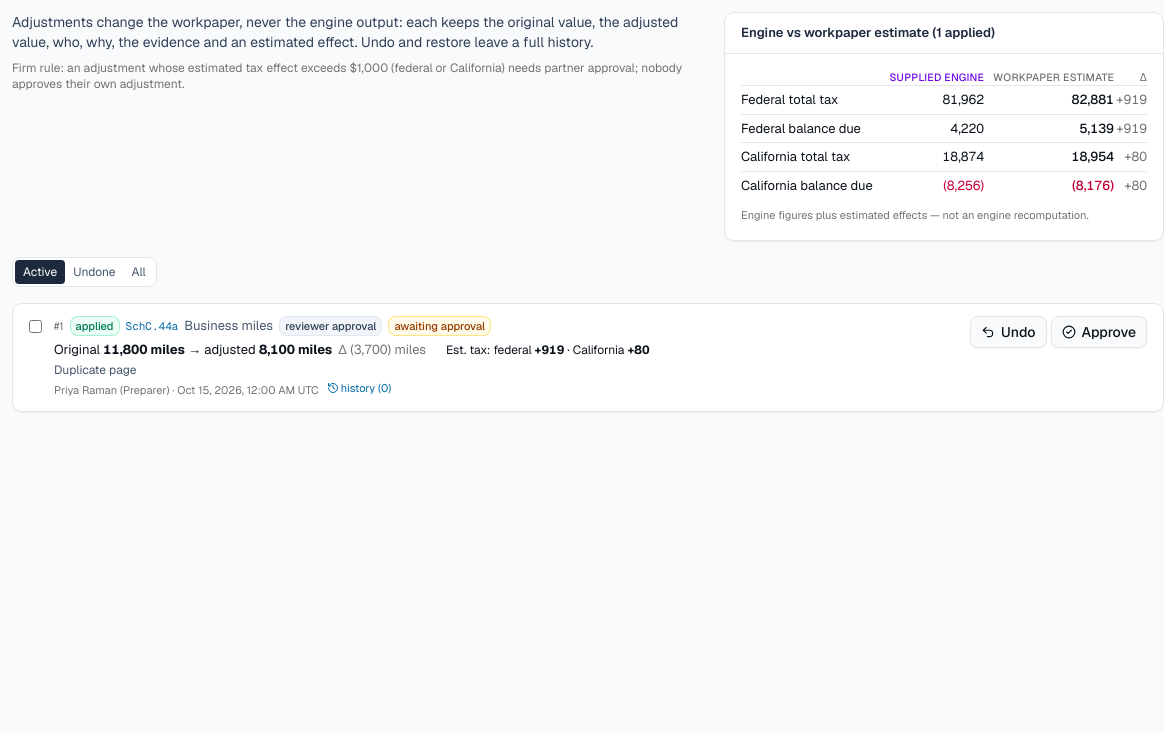
Test: adjustments UI › reports which adjustment blocked an all-or-nothing bulk action
The image size is (1164, 732).
What coordinates should you click on to do the following:
click the button "All"
I would click on:
 (139, 272)
Its box is [124,260,154,284].
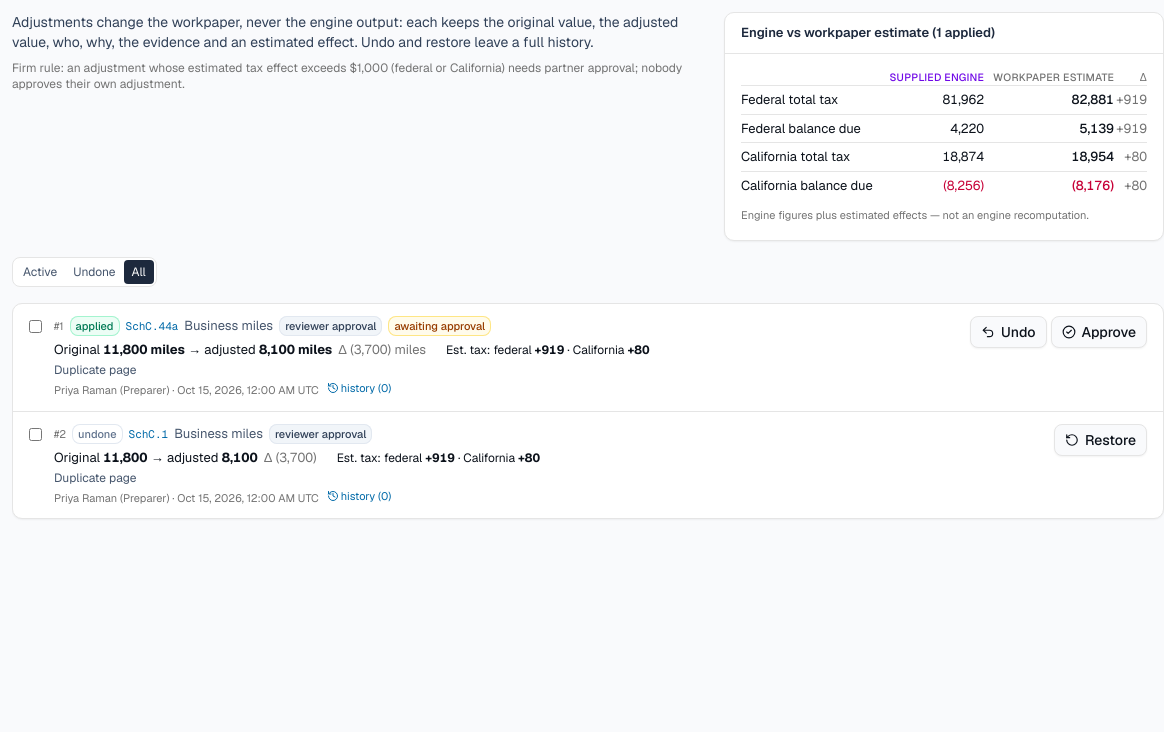
What coordinates should you click on to do the following:
click the checkbox named "Select adjustment 1"
I would click on:
 (36, 326)
Its box is [29,320,42,333].
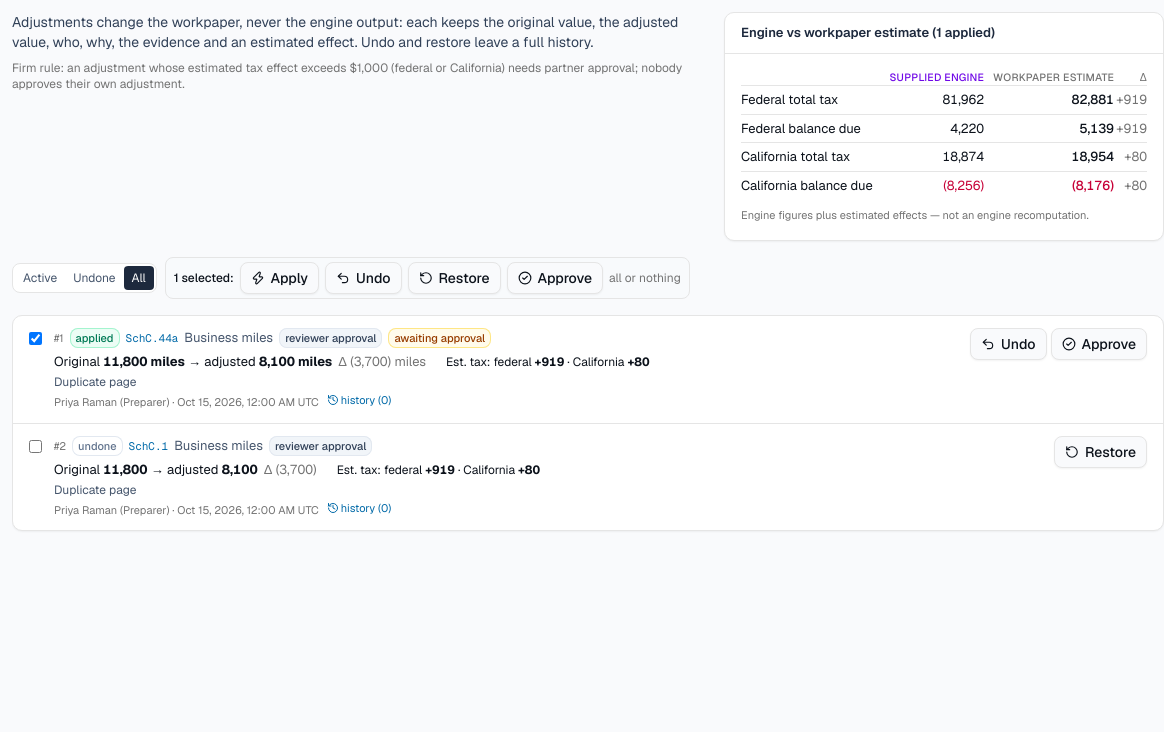
What coordinates should you click on to do the following:
click the checkbox named "Select adjustment 2"
I would click on:
 (36, 446)
Its box is [29,440,42,452].
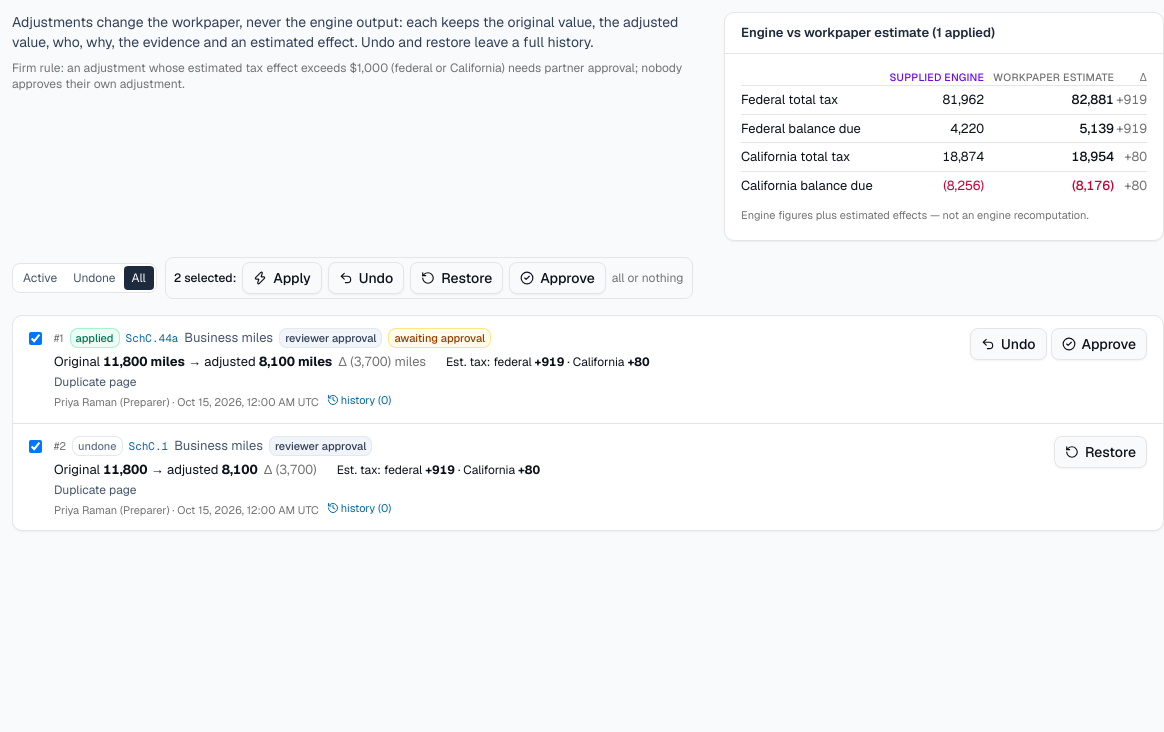
Result: the text "2 selected:" is shown at [174,270,236,286]
What coordinates should you click on to do the following:
click the button "Undo" in the row of "selected:"
I would click on:
 (366, 278)
Its box is [328,262,404,294].
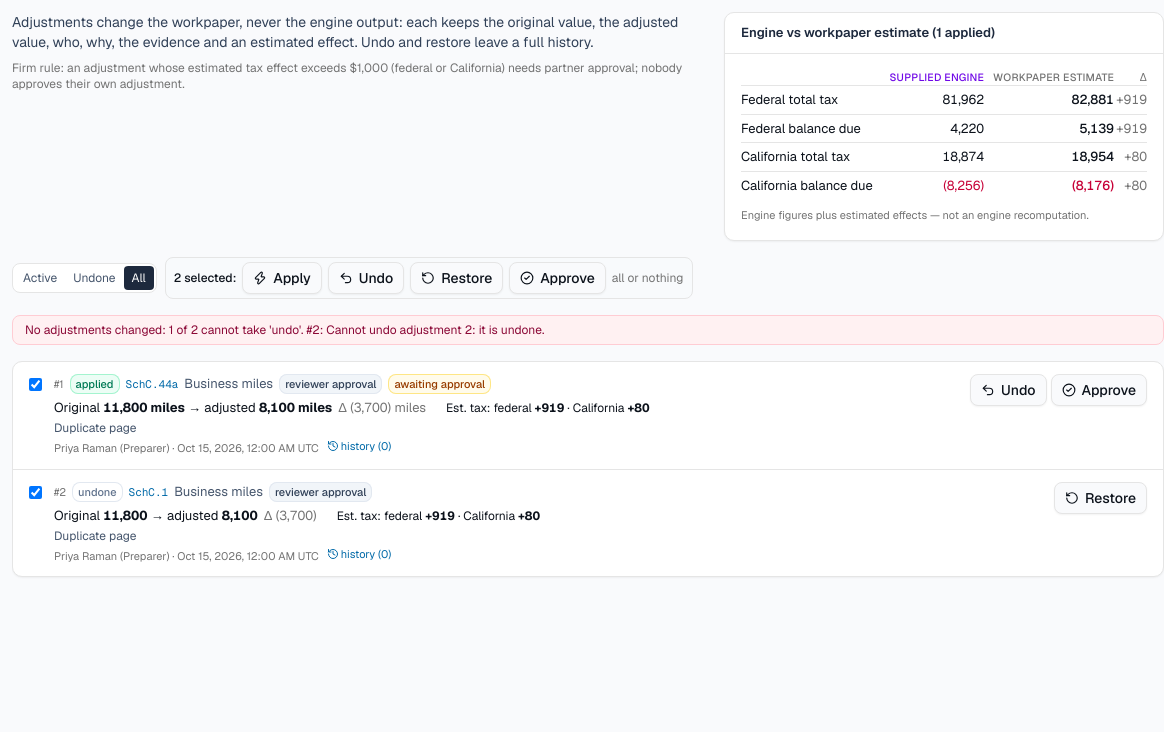
Result: the text "2 selected:" is shown at [174,270,236,286]
Result: the text "No adjustments changed: 1 of 2 cannot take 'undo'." is shown at [25,322,544,338]
Result: the text "#2: Cannot undo adjustment 2: it is undone." is shown at [25,322,544,338]
